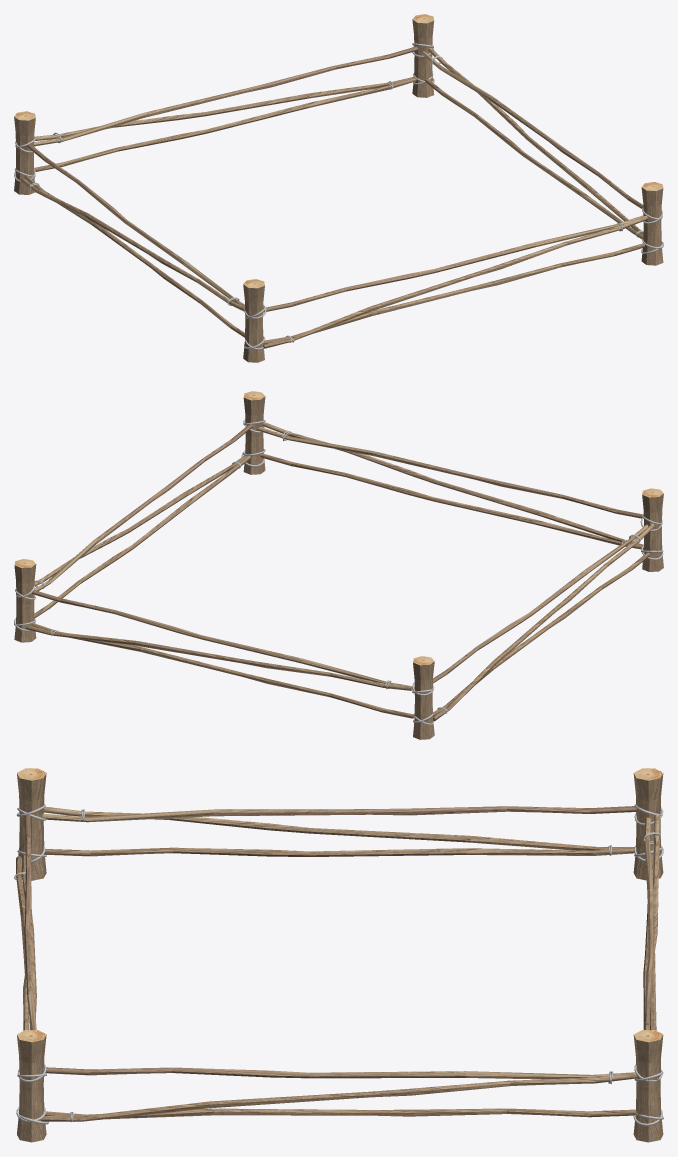
Rendered from Garsgard.FBX.
3 renders of one model, top to bottom at view 1: azimuth 30°, elevation 25°; view 2: azimuth 150°, elevation 25°; view 3: azimuth 270°, elevation 25°, orthographic. The views are drawn at different scales.
Visible parts, largest first — view 1: Cylinder001, Cylinder005, Cylinder003, Cylinder004, Cylinder002; view 2: Cylinder001, Cylinder003, Cylinder005, Cylinder002, Cylinder004; view 3: Cylinder002, Cylinder004, Cylinder001, Cylinder005, Cylinder003.
Boxes of the visible parts, x1,y1,x2,y2 form: Cylinder001: (14,14,663,362); Cylinder005: (34,46,417,171); Cylinder003: (263,215,647,348); Cylinder004: (421,48,643,239); Cylinder002: (20,144,244,337); Cylinder001: (14,391,663,739); Cylinder003: (257,422,643,549); Cylinder005: (25,590,414,718); Cylinder002: (433,523,654,721); Cylinder004: (34,424,252,618); Cylinder002: (42,806,636,856); Cylinder004: (41,1067,637,1121); Cylinder001: (17,768,663,1142); Cylinder005: (643,814,660,1030); Cylinder003: (16,814,36,1030).
Bounding box in the file's own units: 2.13 × 0.3622 × 2.13.
Materials: 3 (2 with a texture image).
